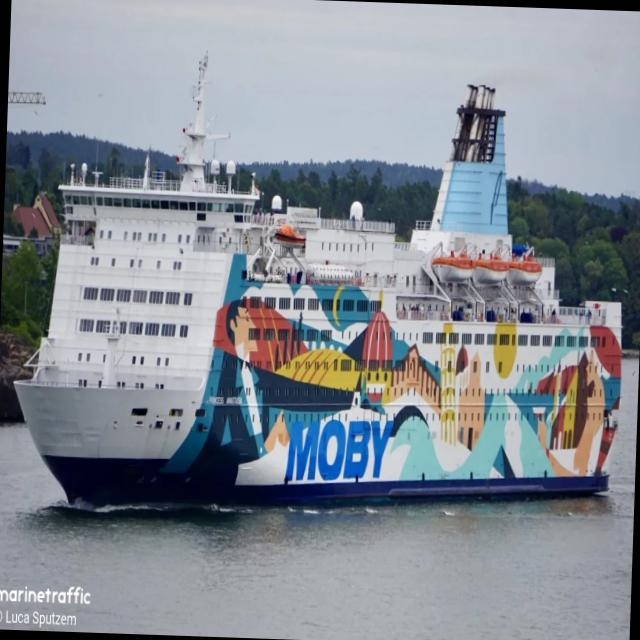Cruise: (14, 64, 620, 506)
